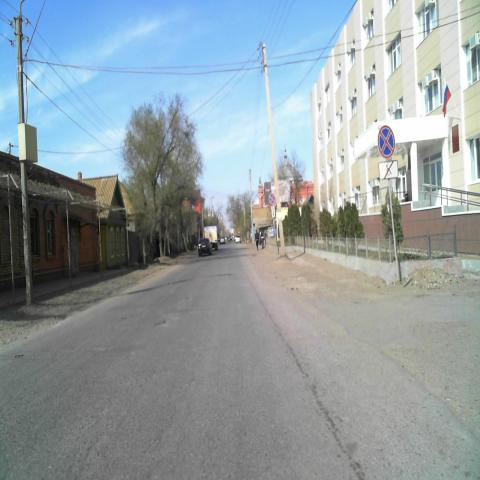3_27: (377, 127, 396, 158), (268, 191, 276, 204)
8_18: (378, 160, 398, 178)
8_2_3: (271, 204, 276, 218)
